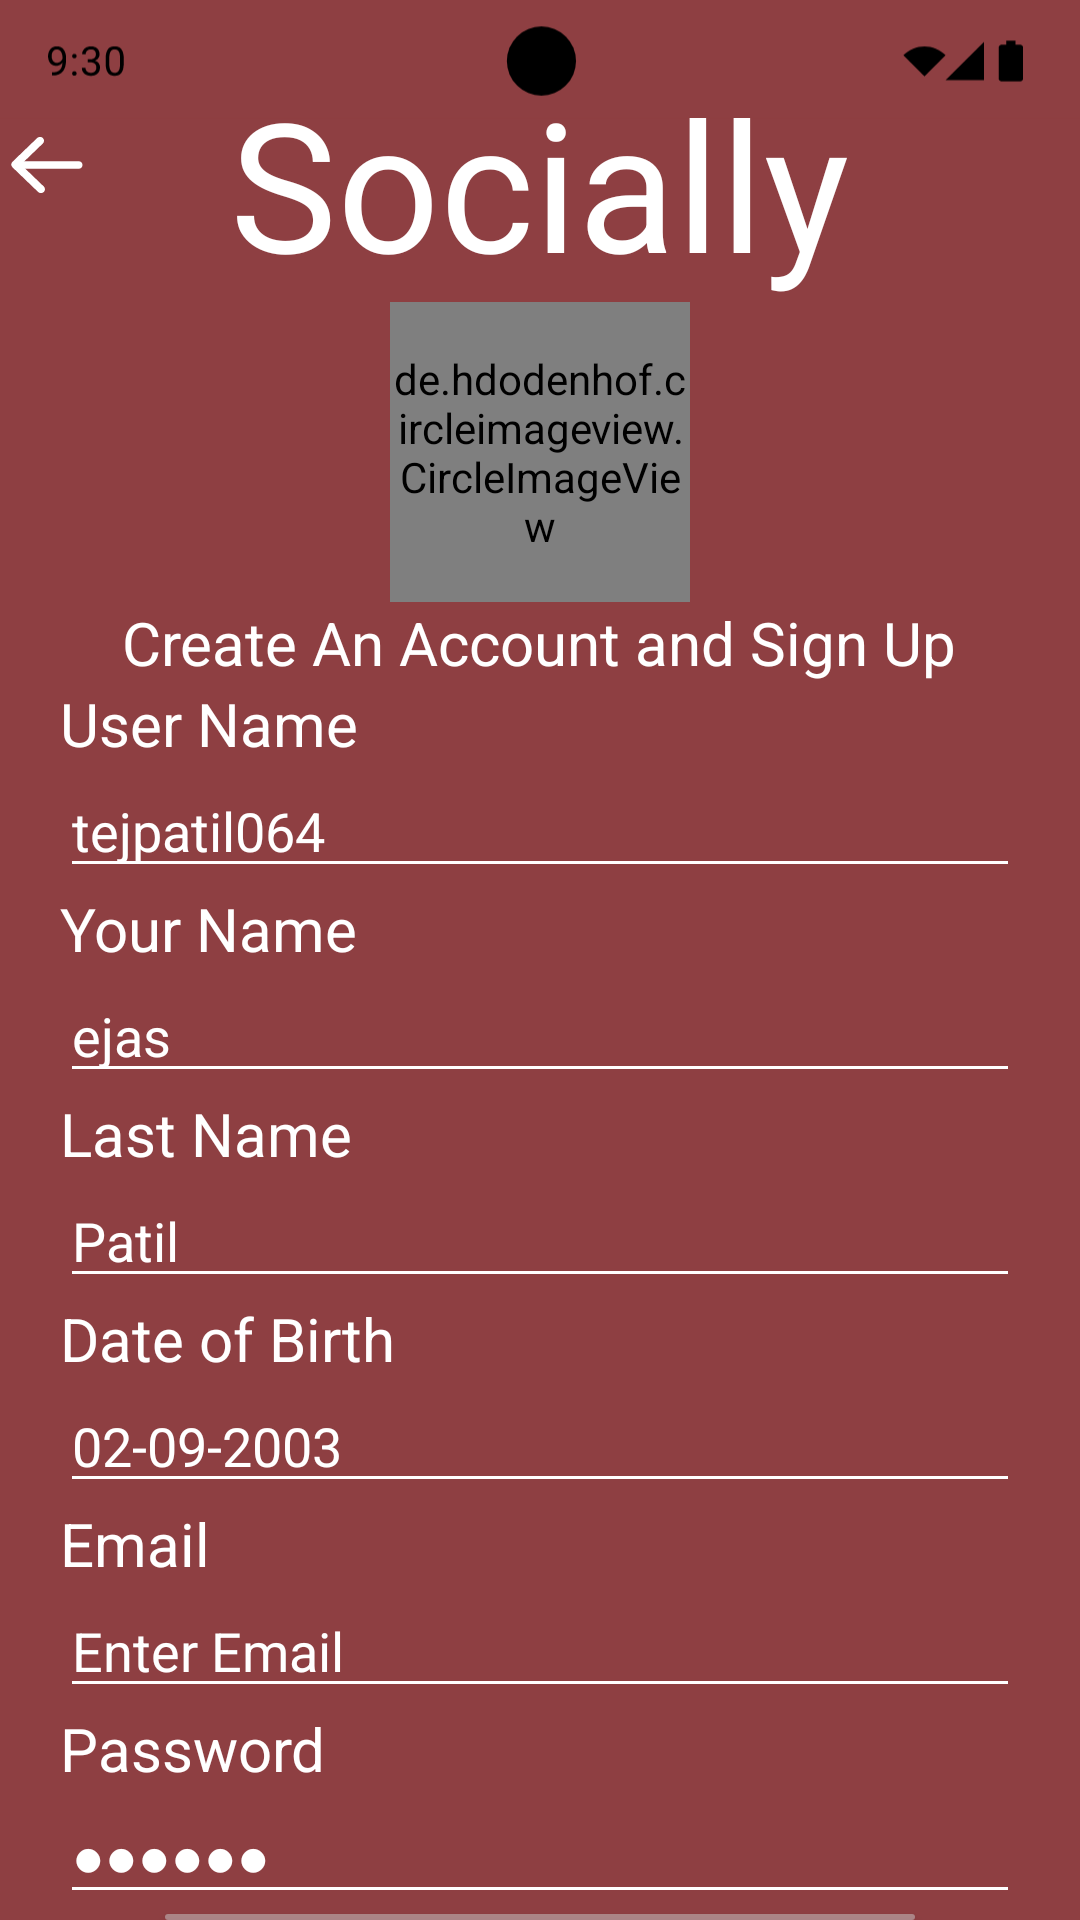

Locate icon controls on the screen. Image size 1080px×1920px, boxes as bbox=(x1, y1, x2, y2).
back: bbox=(11, 137, 83, 193)
